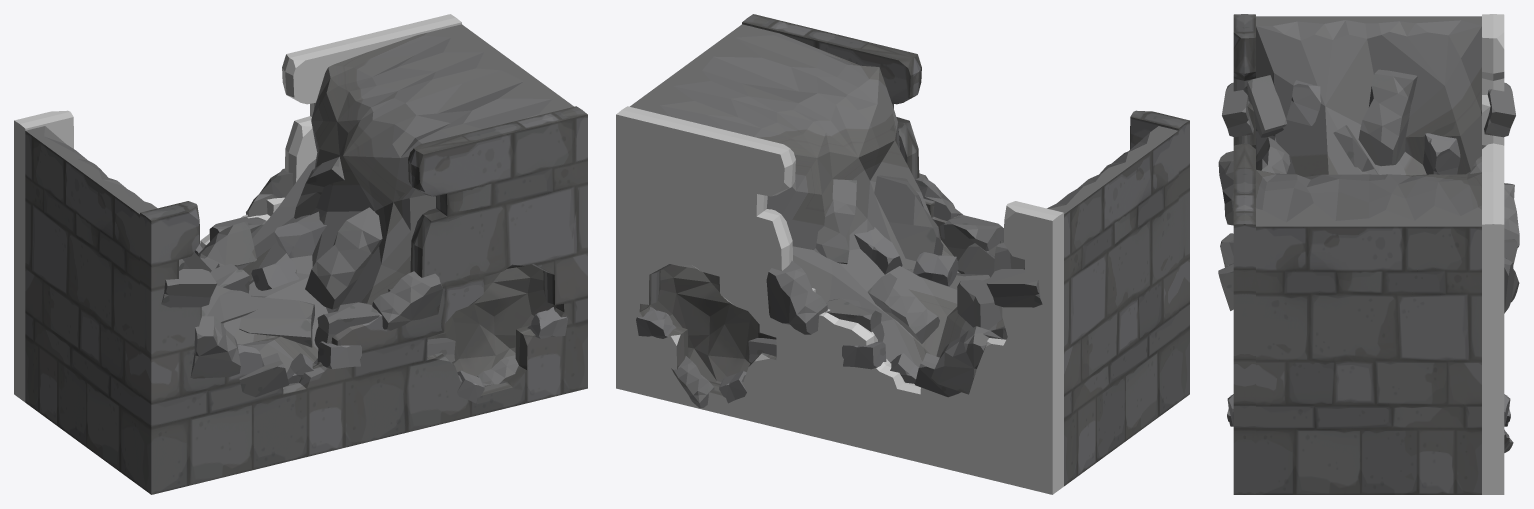
The model's file is SM_Bld_Wall_L_Damaged_Double_01.fbx.
3 views of the same model, side by side, from view 1: azimuth 30°, elevation 25°; view 2: azimuth 150°, elevation 25°; view 3: azimuth 270°, elevation 25° (orthographic).
Visible parts, largest first — view 1: SM_Bld_Wall_L_Damaged_Double_01; view 2: SM_Bld_Wall_L_Damaged_Double_01; view 3: SM_Bld_Wall_L_Damaged_Double_01.
Boxes of the visible parts, <box> form: SM_Bld_Wall_L_Damaged_Double_01: <box>14,14,587,494</box>; SM_Bld_Wall_L_Damaged_Double_01: <box>616,14,1189,494</box>; SM_Bld_Wall_L_Damaged_Double_01: <box>1218,14,1519,494</box>.
Size of the model in its own units: 1000 by 603 by 607.
